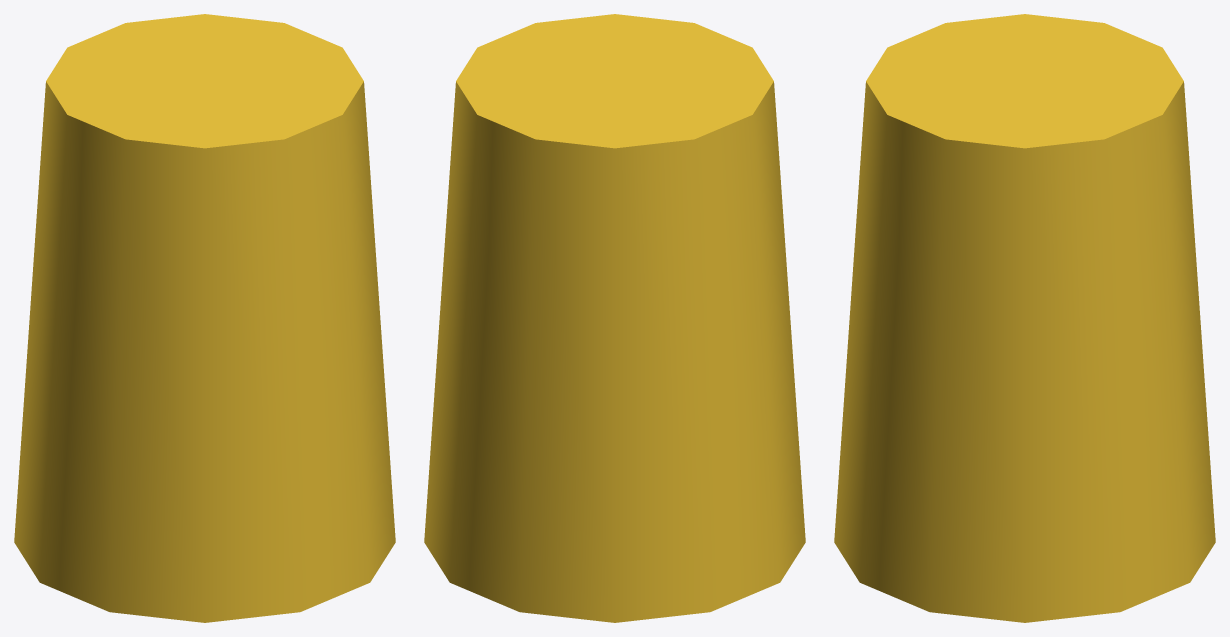
The model's file is hydrant.glb.
3 views of the same model, side by side, from view 1: azimuth 30°, elevation 25°; view 2: azimuth 150°, elevation 25°; view 3: azimuth 270°, elevation 25° (orthographic).
Parts seen in each view (by area): view 1: hydrant-node; view 2: hydrant-node; view 3: hydrant-node.
Boxes of the visible parts, x1=… form: hydrant-node: x1=14, y1=14, x2=395, y2=622; hydrant-node: x1=424, y1=14, x2=805, y2=622; hydrant-node: x1=834, y1=14, x2=1215, y2=622.
Size of the model in its own units: 0.6 by 0.8 by 0.6.
